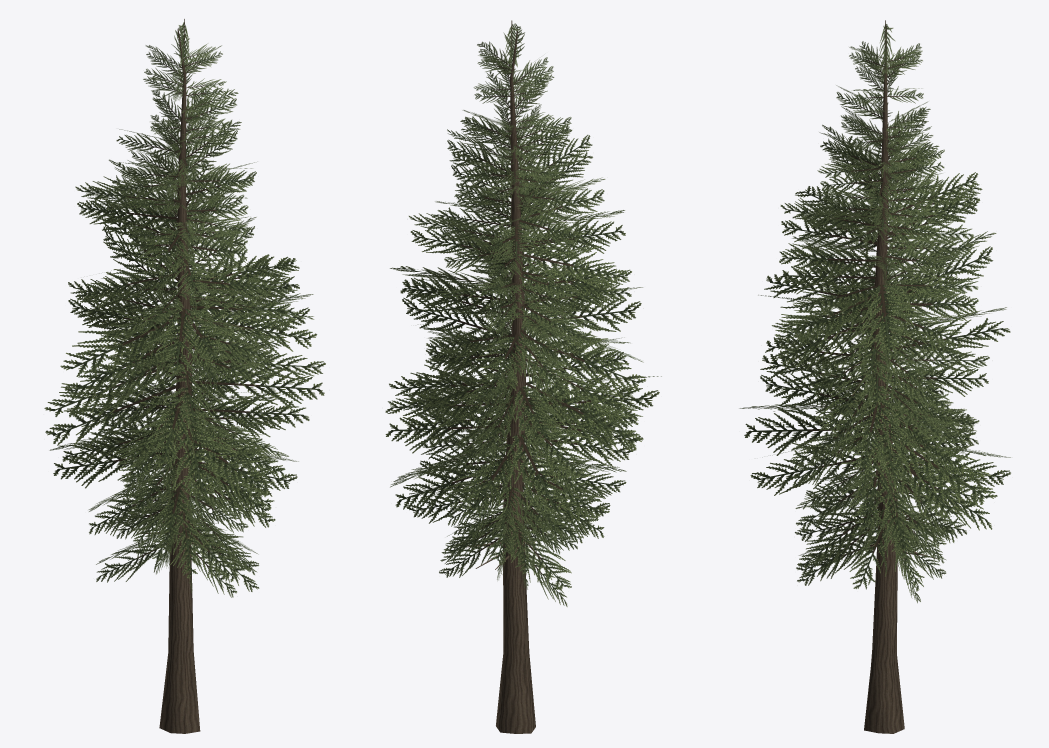
Rendered from dfir2.glb.
3 renders of one model, left to right at view 1: azimuth 30°, elevation 25°; view 2: azimuth 150°, elevation 25°; view 3: azimuth 270°, elevation 25°, orthographic.
Visible parts, largest first — view 1: dfir2_lod0_1, dfir2_lod0_0; view 2: dfir2_lod0_1, dfir2_lod0_0; view 3: dfir2_lod0_1, dfir2_lod0_0.
Part boxes in pixels (bbox=[...]): dfir2_lod0_1: bbox=[44, 19, 325, 597]; dfir2_lod0_0: bbox=[141, 28, 200, 733]; dfir2_lod0_1: bbox=[385, 20, 661, 606]; dfir2_lod0_0: bbox=[467, 31, 541, 733]; dfir2_lod0_1: bbox=[739, 20, 1010, 603]; dfir2_lod0_0: bbox=[855, 26, 937, 733].
Size of what is drawn, in the model's own units: 9.08 by 21.77 by 8.98.
2 materials, 2 textured.
